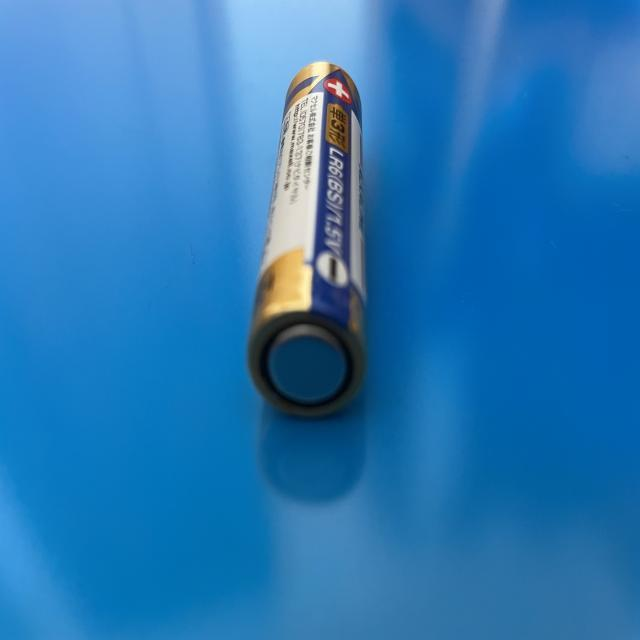hazardous waste: (244, 61, 369, 418)
